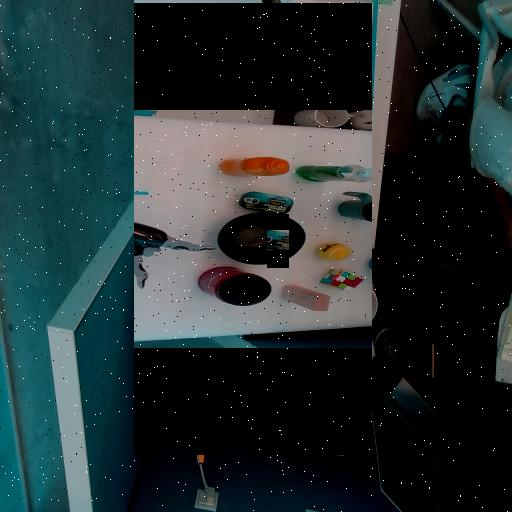bowl: (218, 194, 268, 280)
cleanser: (299, 303, 316, 319)
coffee_can: (176, 174, 214, 245)
jaco: (191, 75, 260, 196)
meat_can: (267, 229, 289, 251)
mug: (258, 326, 289, 356)
mustard_bottle: (305, 195, 324, 263)
rubik: (190, 295, 212, 338)
soup_can: (290, 397, 308, 415)
tennis_ball: (221, 294, 238, 324)
windex: (198, 345, 225, 463)
wooden_block: (171, 258, 195, 304)
workspace: (134, 113, 372, 341)
